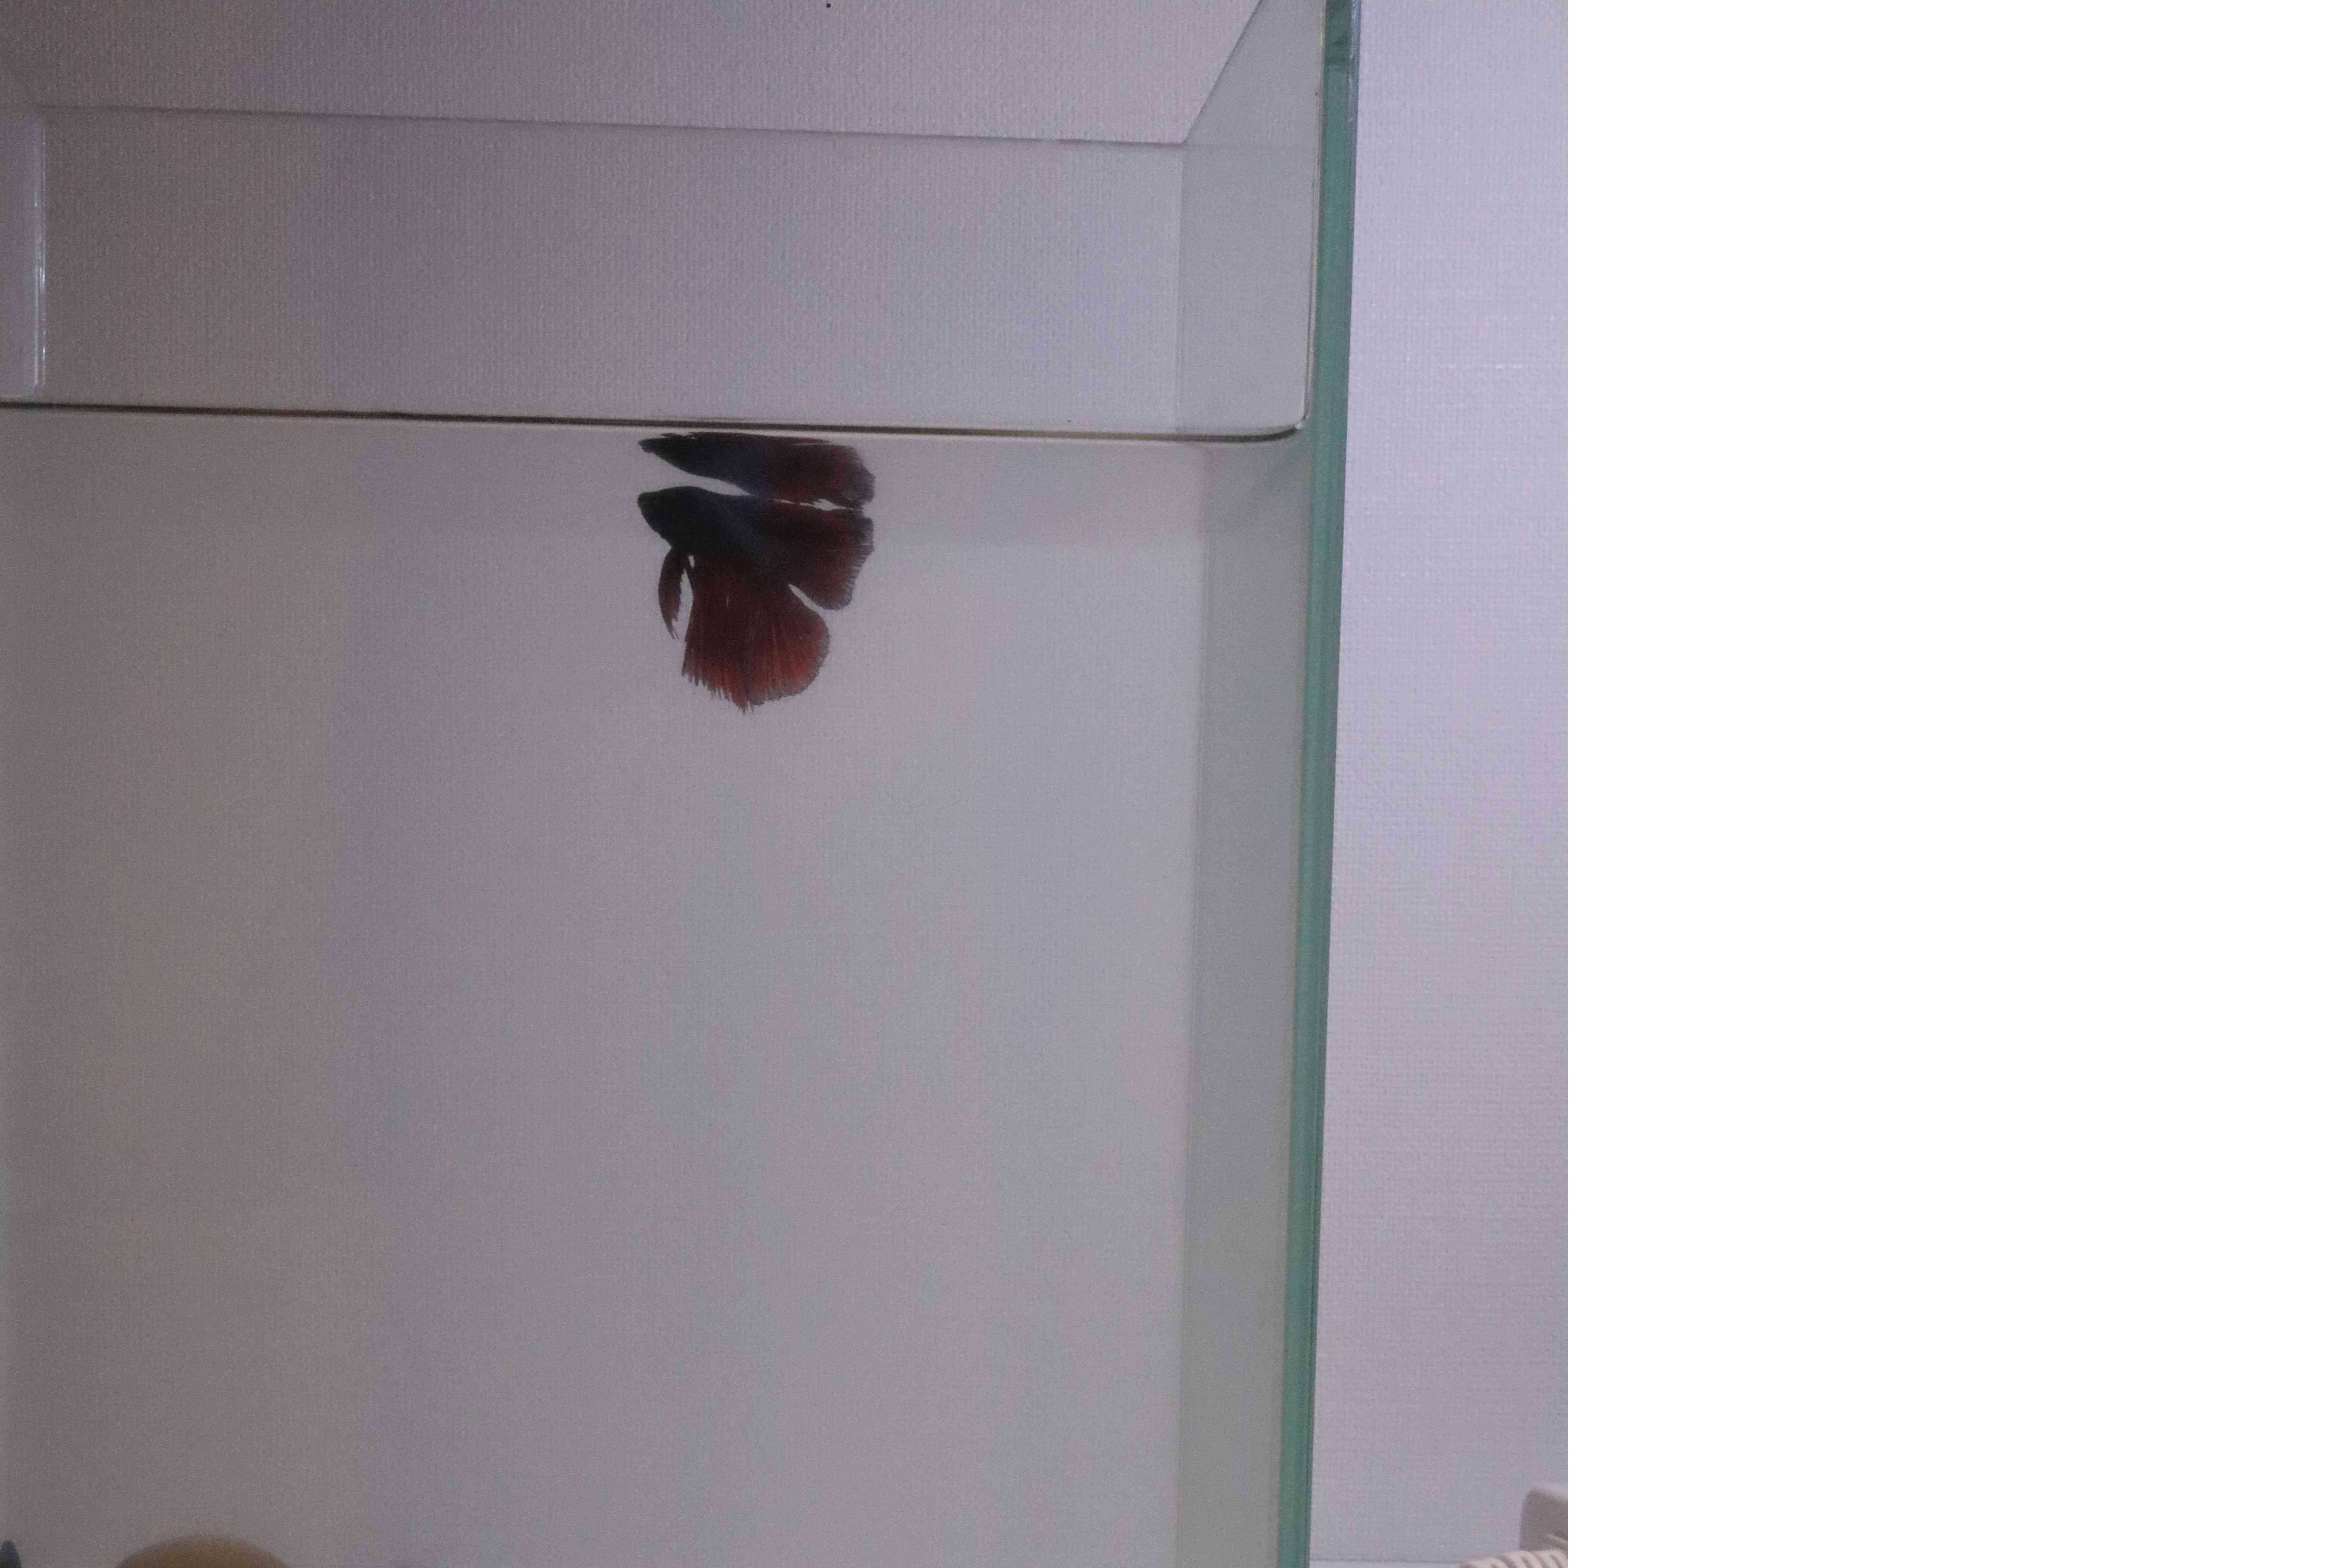fish: (614, 476, 884, 714)
